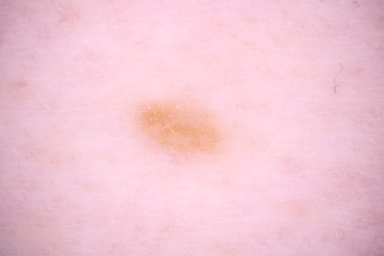melanoma: (136, 104, 220, 157)
